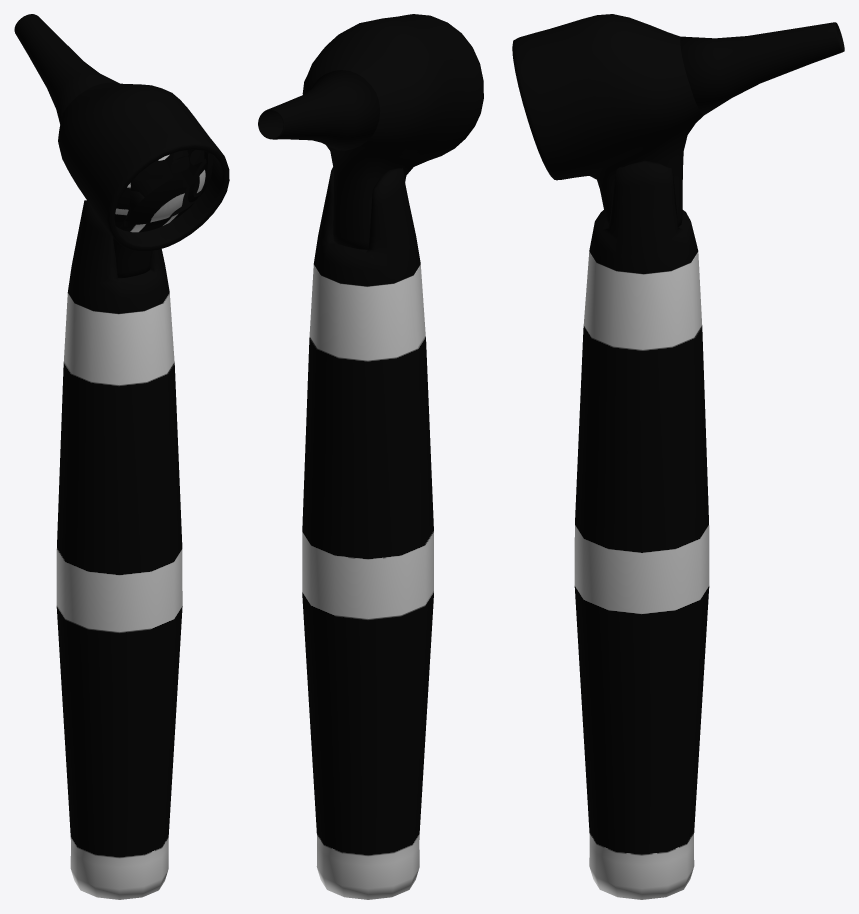
File: Otoscope.fbx
The picture shows the model from 3 angles, left to right: view 1: azimuth 30°, elevation 25°; view 2: azimuth 150°, elevation 25°; view 3: azimuth 270°, elevation 25°; orthographic projection. The views are drawn at different scales.
Parts seen in each view (by area): view 1: OtoscopeHandle_FG, OtoscopeHead_FG, OtoscopeHat, OtoscopeScreen_FG; view 2: OtoscopeHandle_FG, OtoscopeHead_FG, OtoscopeHat; view 3: OtoscopeHandle_FG, OtoscopeHead_FG, OtoscopeHat.
Boxes of the visible parts, x1,y1,x2,y2 form: OtoscopeHandle_FG: [56, 191, 182, 899]; OtoscopeHead_FG: [58, 82, 229, 278]; OtoscopeHat: [14, 14, 118, 124]; OtoscopeScreen_FG: [114, 150, 212, 232]; OtoscopeHandle_FG: [302, 167, 433, 899]; OtoscopeHead_FG: [302, 14, 483, 249]; OtoscopeHat: [258, 70, 380, 150]; OtoscopeHandle_FG: [574, 160, 709, 899]; OtoscopeHead_FG: [512, 14, 703, 226]; OtoscopeHat: [680, 22, 844, 115].
Size of the model in its own units: 0.0418 by 0.2674 by 0.0938.
